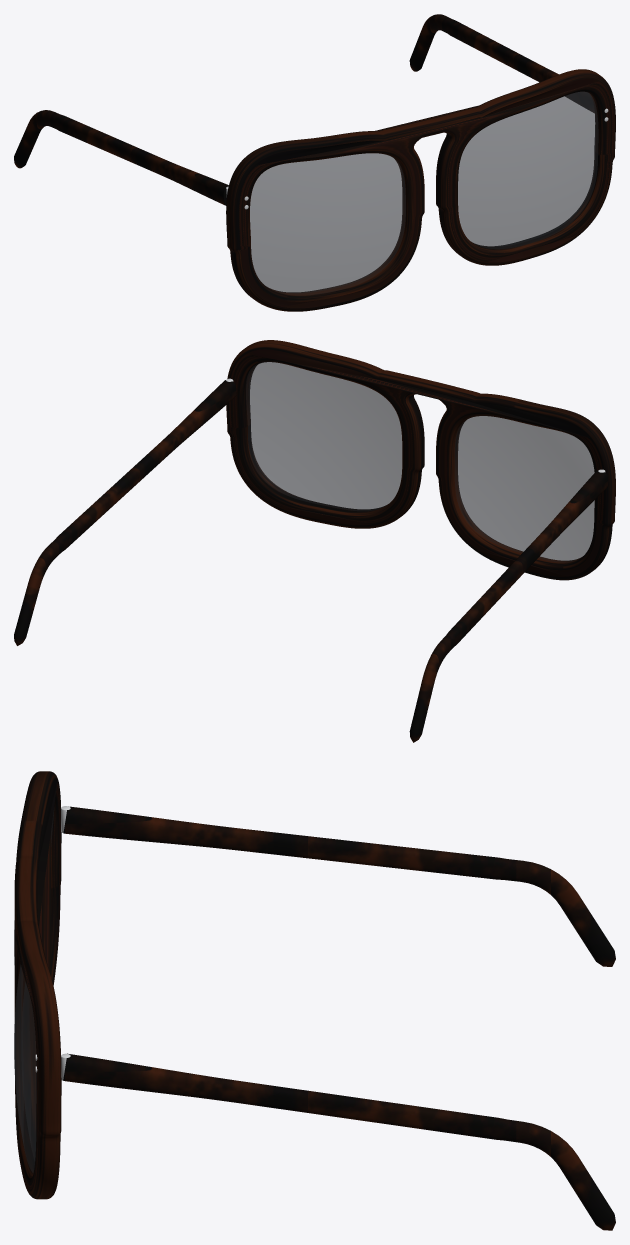
The model's file is luna-l.glb.
3 renders of one model, top to bottom at view 1: azimuth 30°, elevation 25°; view 2: azimuth 150°, elevation 25°; view 3: azimuth 270°, elevation 25°, orthographic. The views are drawn at different scales.
Visible parts, largest first — view 1: Front, Lens_R, Lens_L, Temple_R, Temple_L; view 2: Front, Lens_L, Lens_R, Temple_L, Temple_R; view 3: Front, Temple_L, Temple_R, Lens_L.
Boxes of the visible parts, box(x1,y1,x2,y2) form: Front: box(226, 69, 615, 311); Lens_R: box(250, 153, 405, 295); Lens_L: box(458, 91, 598, 248); Temple_R: box(14, 110, 228, 205); Temple_L: box(409, 14, 594, 113); Front: box(226, 340, 615, 580); Lens_L: box(246, 362, 402, 510); Lens_R: box(455, 416, 594, 562); Temple_L: box(14, 380, 236, 645); Temple_R: box(409, 470, 608, 742); Front: box(14, 771, 70, 1199); Temple_L: box(63, 1053, 615, 1230); Temple_R: box(63, 806, 615, 966); Lens_L: box(14, 964, 36, 1172).
Bounding box in the file's own units: 0.1576 × 0.0636 × 0.1487.
4 materials, 2 textured.
